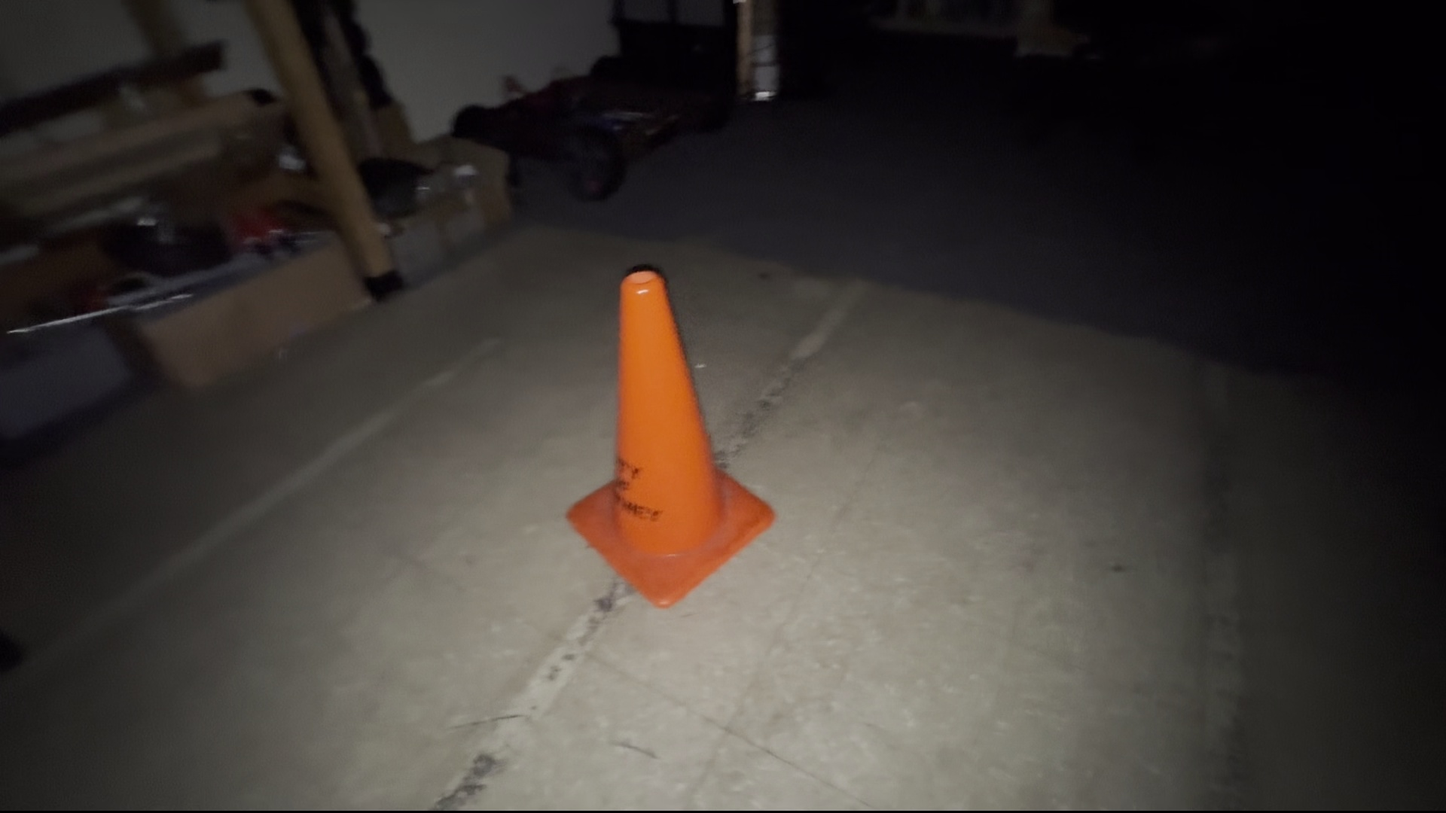traffic_cone: (565, 264, 776, 609)
